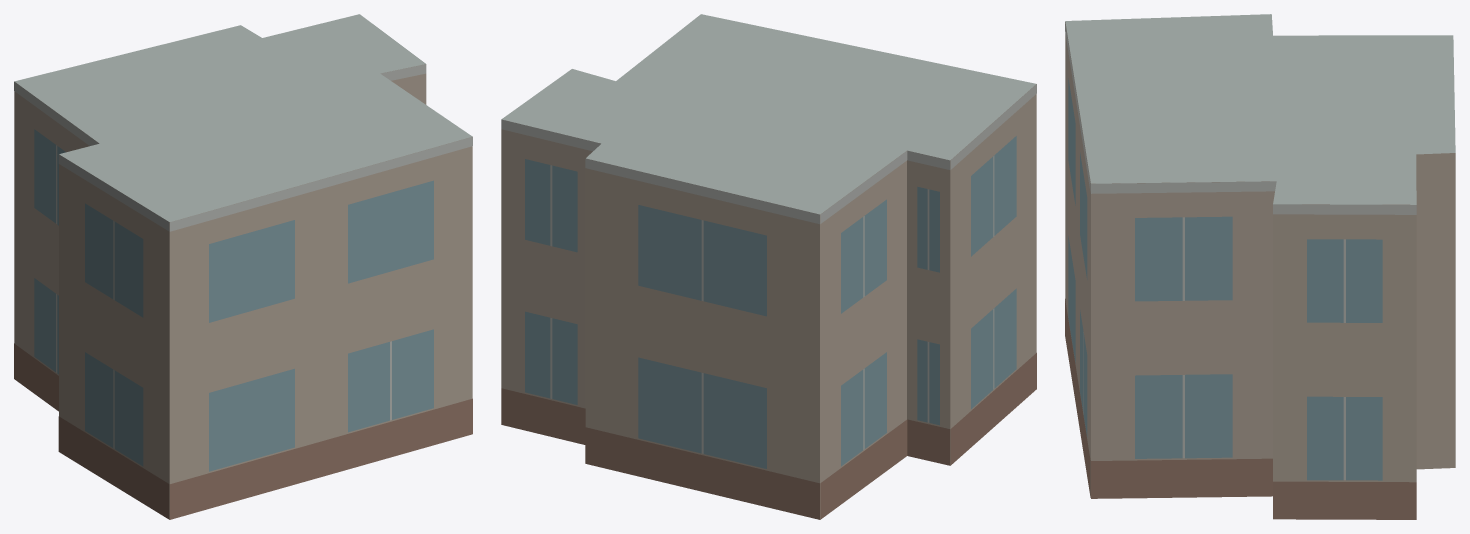
Rendered from survey-upis-32611316.glb.
3 views of the same model, side by side, from view 1: azimuth 30°, elevation 25°; view 2: azimuth 150°, elevation 25°; view 3: azimuth 270°, elevation 25° (orthographic). The views are drawn at different scales.
Visible parts, largest first — view 1: survey-upis-32611316.tmp; view 2: survey-upis-32611316.tmp; view 3: survey-upis-32611316.tmp.
Part boxes in pixels (<box>): survey-upis-32611316.tmp: <box>14,14,472,519</box>; survey-upis-32611316.tmp: <box>501,14,1036,519</box>; survey-upis-32611316.tmp: <box>1065,14,1455,519</box>.
Size of the model in its own units: 9.88 by 7.6 by 8.55.
